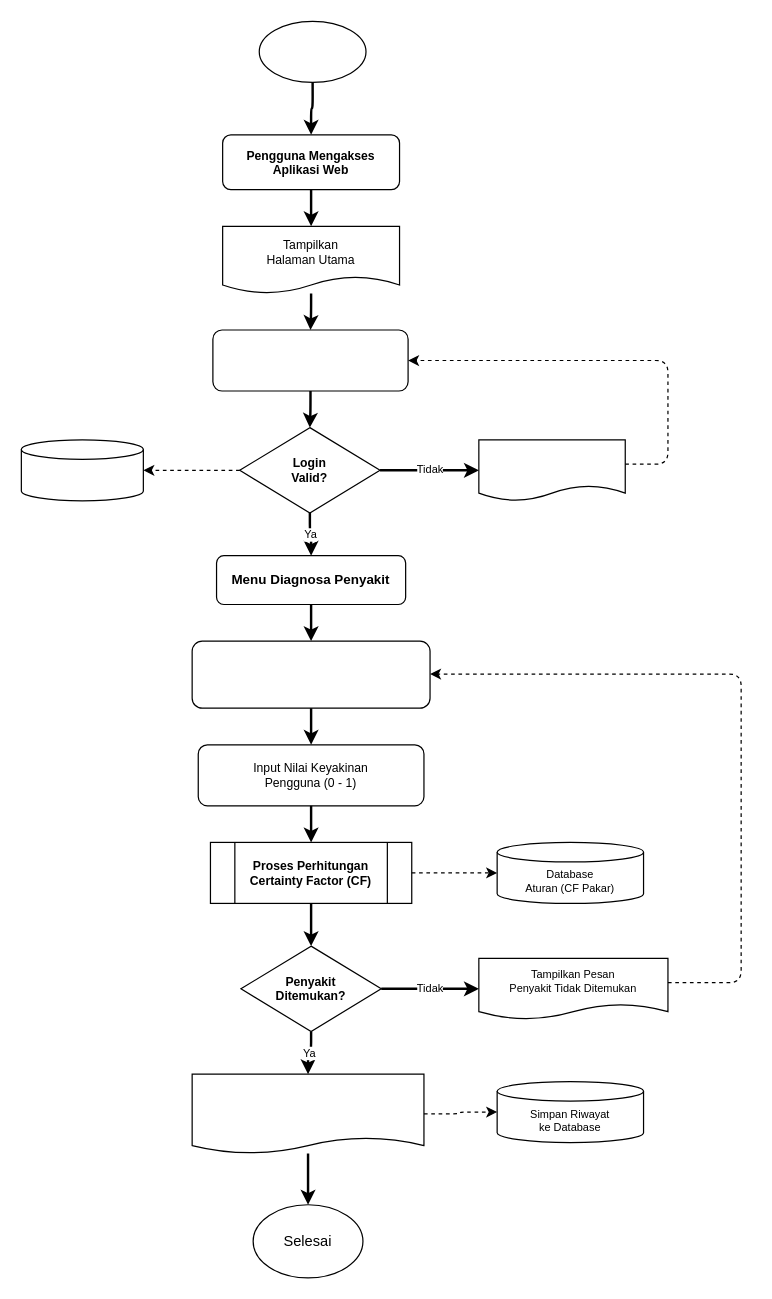
This 772x1299 diagram has some shape labels left out. The box of each missing label's shape, as (x1, y1, x2, y2) in pixels:
Cek Data User: (20, 439, 143, 501)
Input Login / Register: (212, 329, 408, 391)
Mulai: (258, 20, 366, 82)
Pilih Gejala yang Dialami Tanaman Kangkung: (191, 640, 430, 708)
Tampilkan Hasil Diagnosa (Penyakit, CF, Persentase, Deskripsi, Solusi): (191, 1073, 424, 1154)
Tampilkan Pesan Error: (478, 439, 625, 501)
